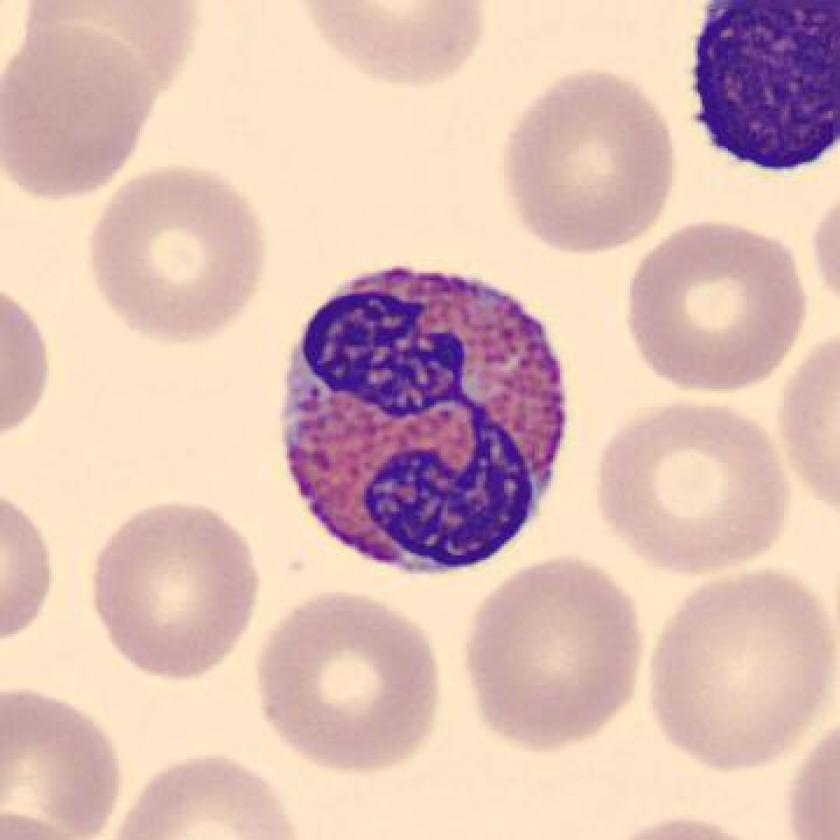eosinophil: (267, 254, 580, 594)
